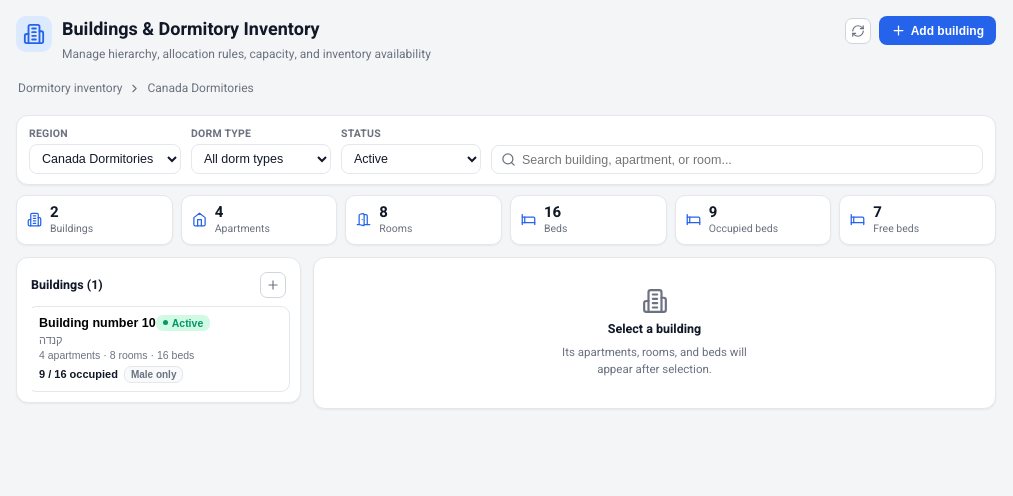
it: BuildingsPage loading and region scope › a region boss manages inventory and may open another region
Expected: the number of buttons "Add building" is 2, [879, 16, 996, 45]; [260, 272, 286, 298]
Expected: the button "Add building" is enabled, [879, 16, 996, 45]
Click the button "Building number 10" at (158, 348), box [27, 306, 290, 392]
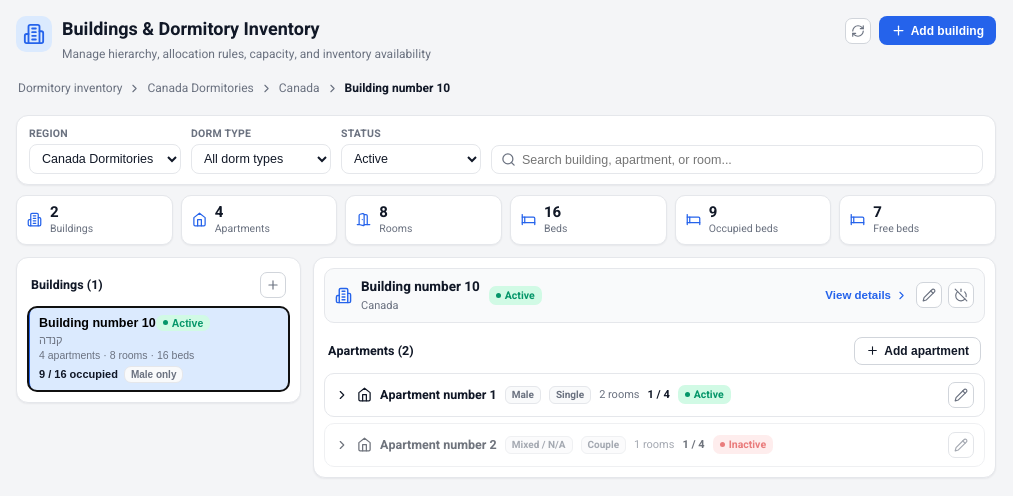
Expected: the text "Apartment number 1" is shown, [380, 386, 497, 404]
Expected: the button named "Deactivate" is shown, [948, 282, 974, 308]
Expected: the button "Add apartment" is shown, [854, 336, 981, 364]
